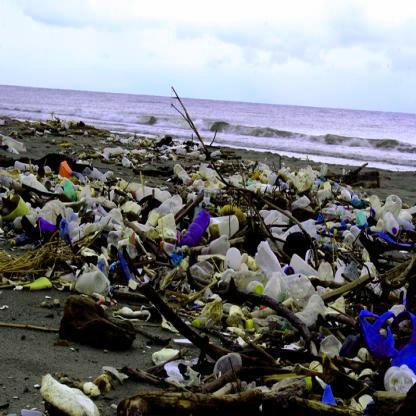Plastic: (383, 364, 415, 397), (76, 268, 110, 296)
